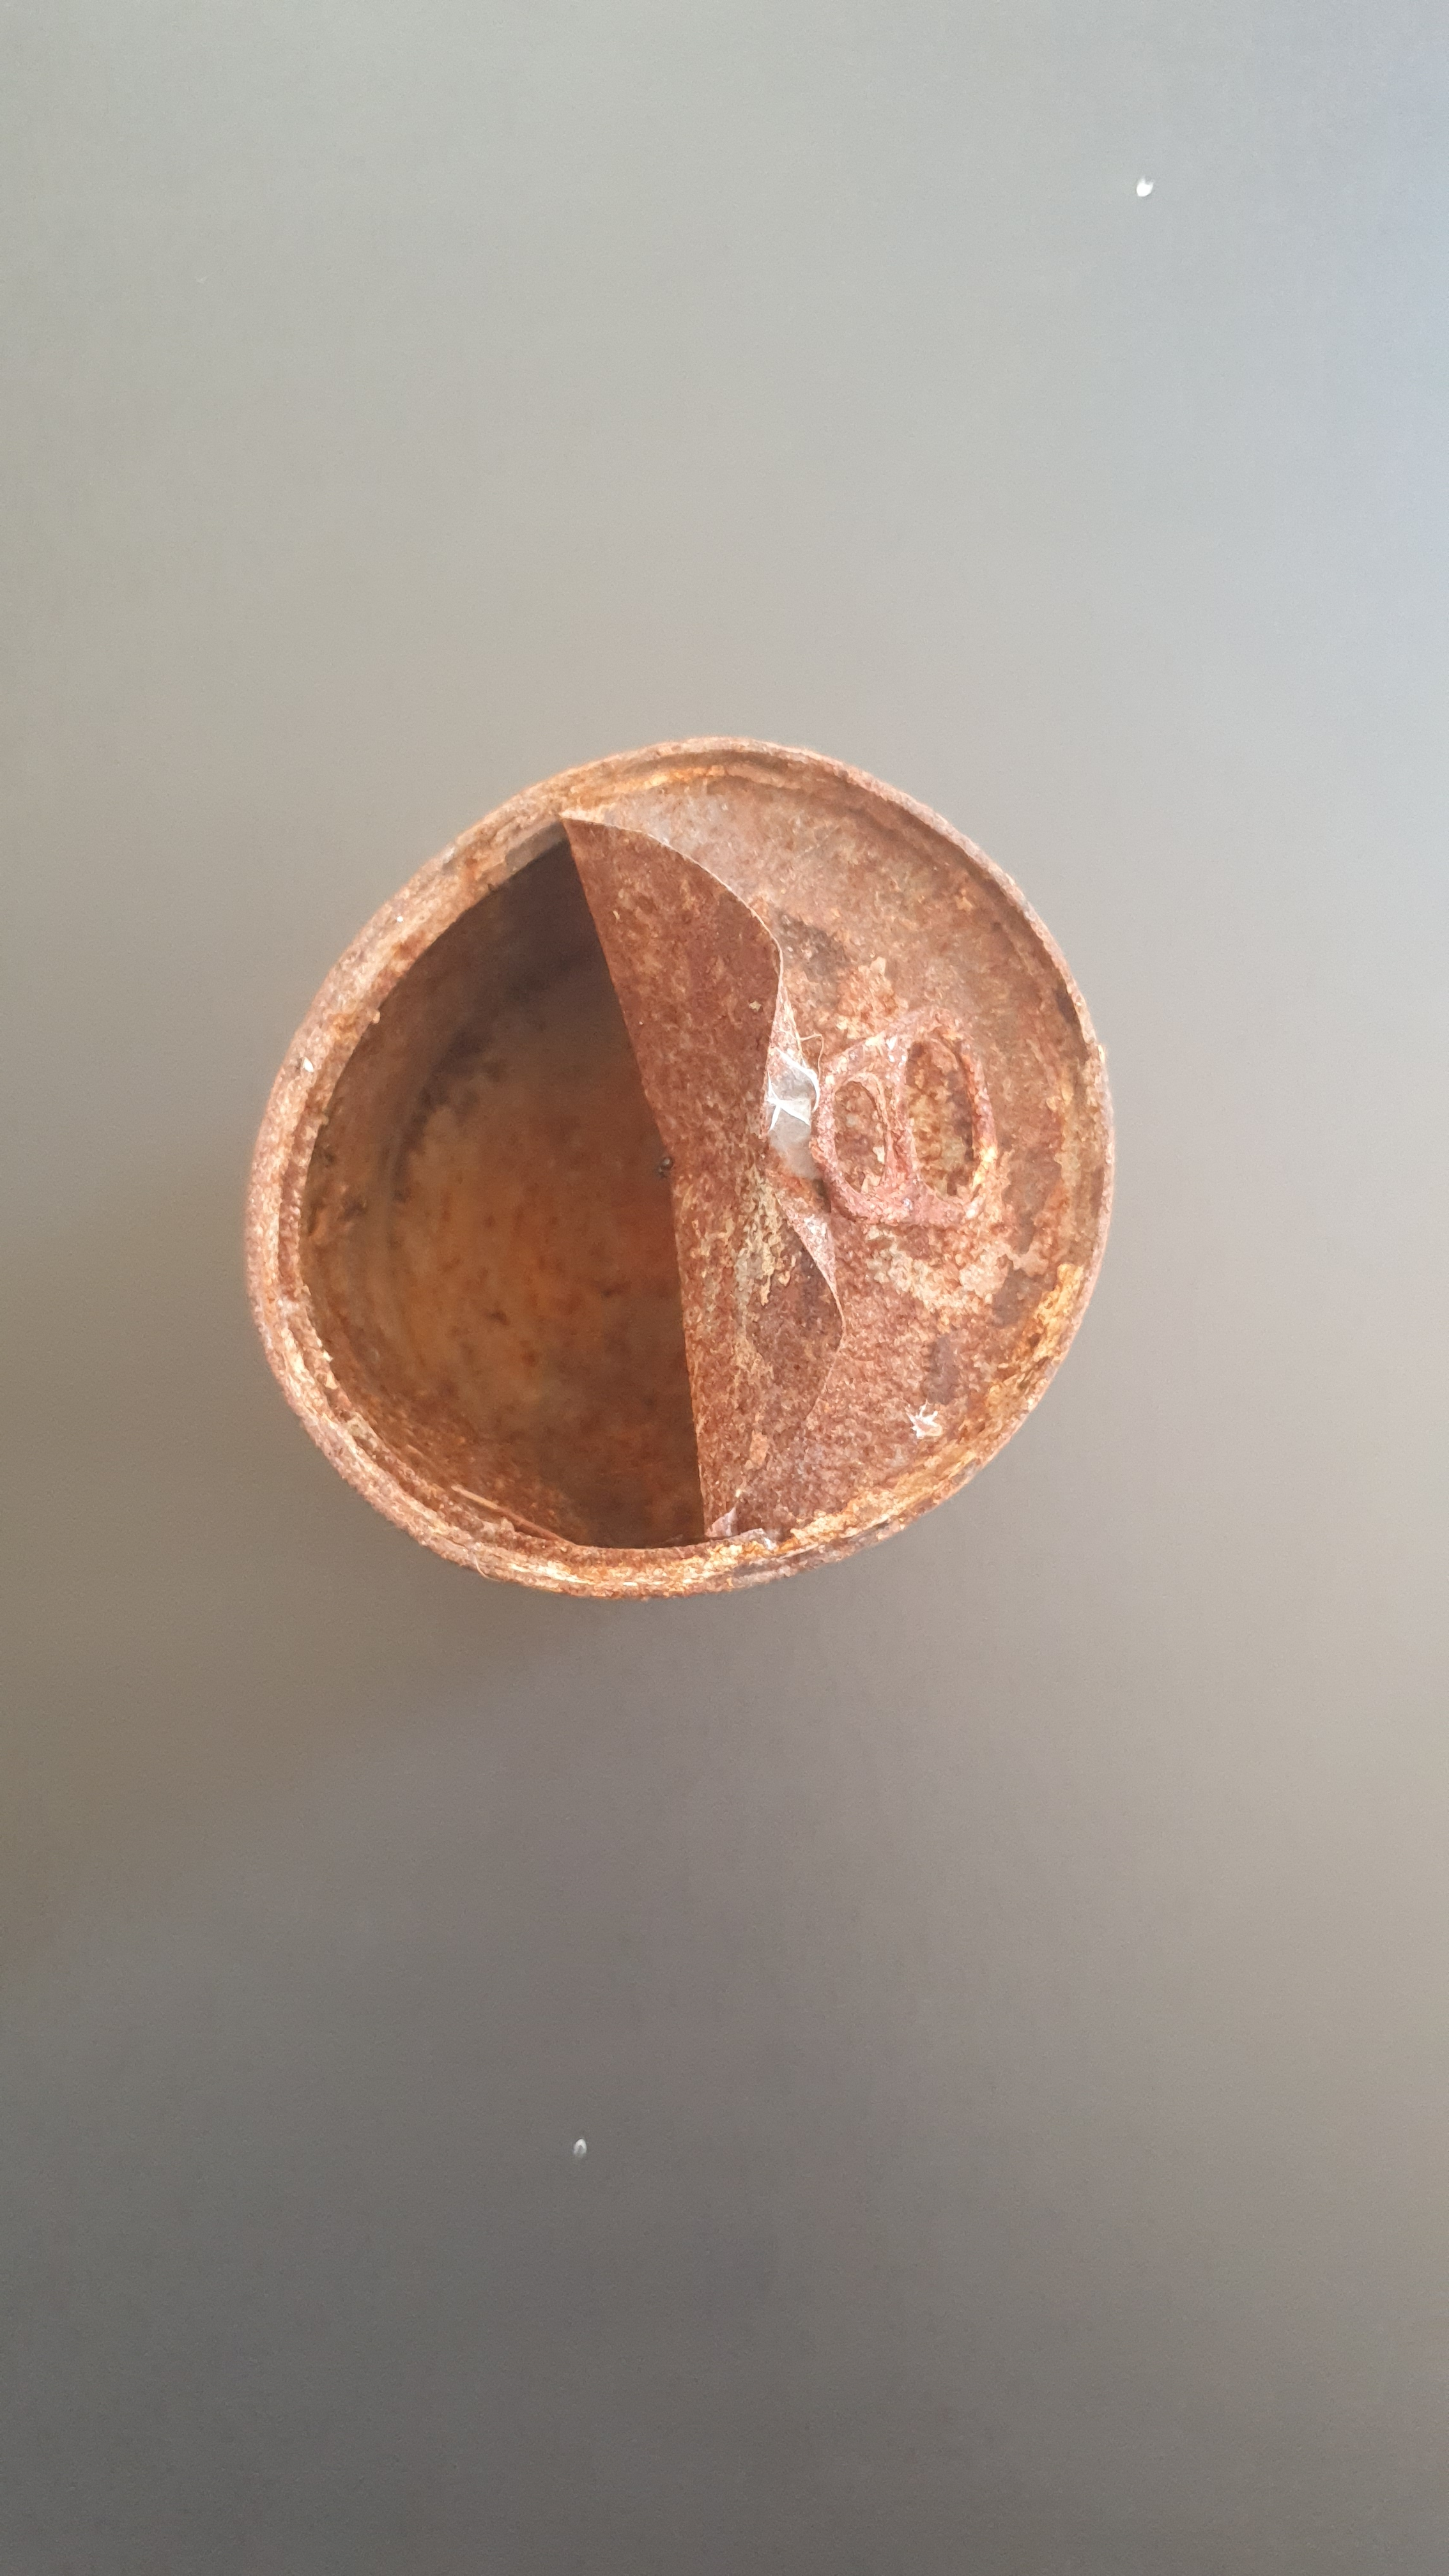metal: (205, 688, 1157, 1665)
